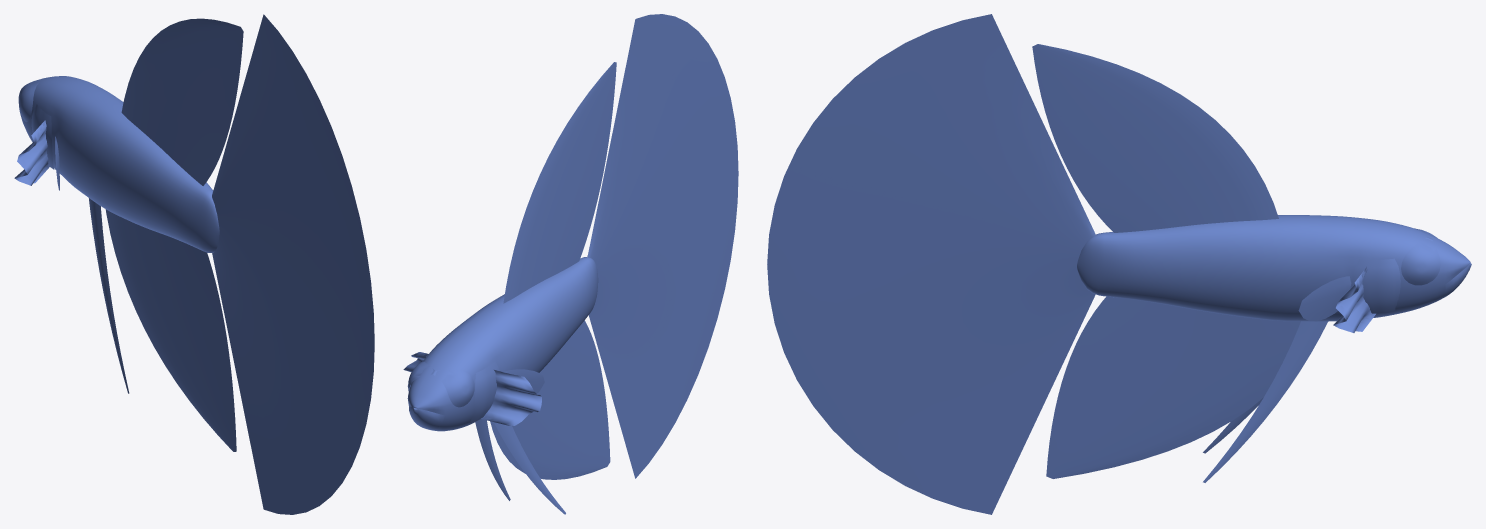
File: betta.glb
3 views of the same model, side by side, from view 1: azimuth 30°, elevation 25°; view 2: azimuth 150°, elevation 25°; view 3: azimuth 270°, elevation 25° (orthographic). The views are drawn at different scales.
Parts seen in each view (by area): view 1: betta; view 2: betta; view 3: betta.
Part boxes in pixels (bbox=[...]): betta: bbox=[14, 14, 374, 514]; betta: bbox=[403, 14, 738, 514]; betta: bbox=[767, 14, 1471, 514].
Size of the model in its own units: 0.0158 by 0.0506 by 0.0645.
